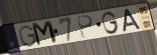7: (58, 17, 74, 43)
A: (122, 7, 143, 33)
G: (17, 24, 38, 48), (101, 10, 121, 35)
M: (30, 19, 60, 49)
P: (75, 14, 95, 41)
